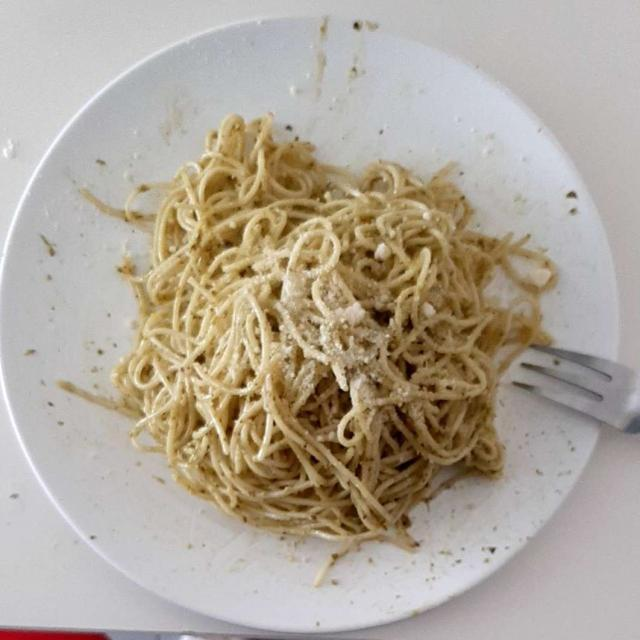cheese: (268, 264, 418, 385)
pasta: (115, 128, 546, 549)
